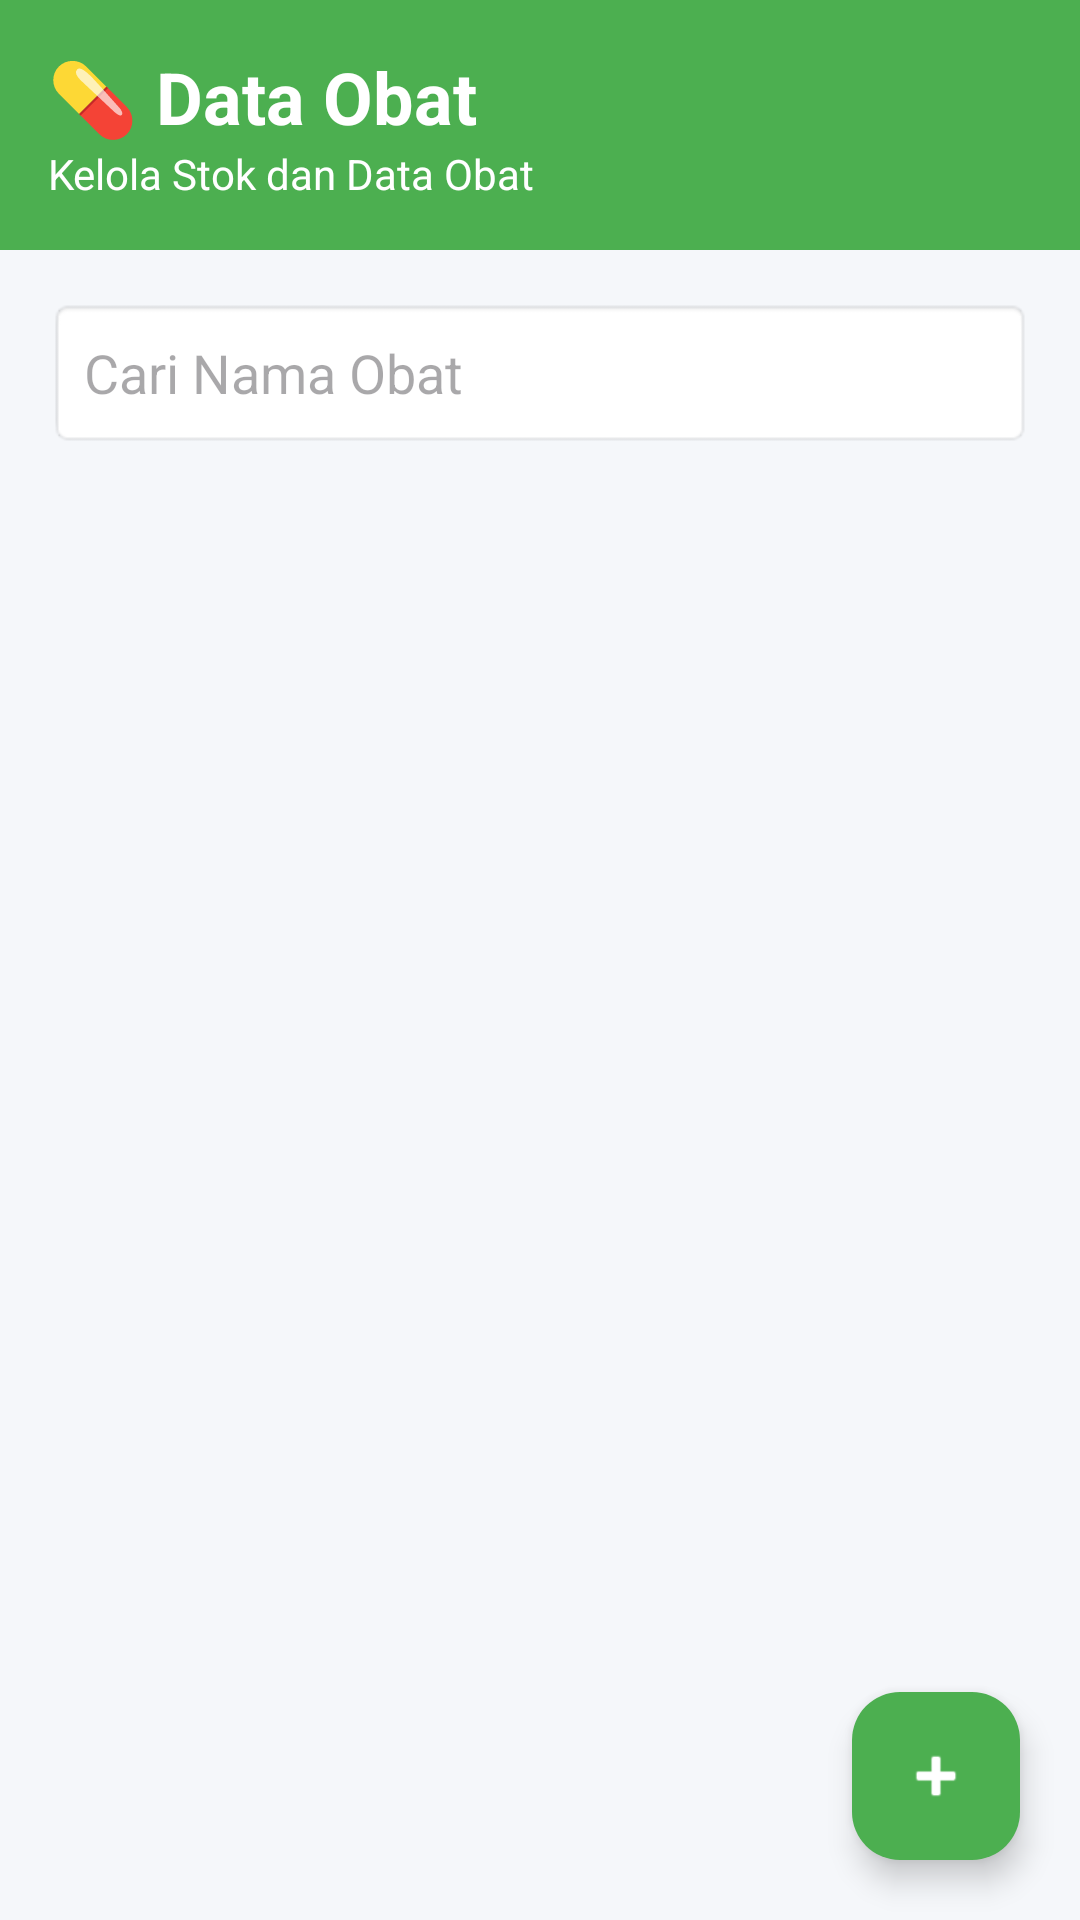

Screen size 1080x1920. Icon name, then its center in pixels as (x=x, y=y):
Tambah Obat: (x=936, y=1776)
